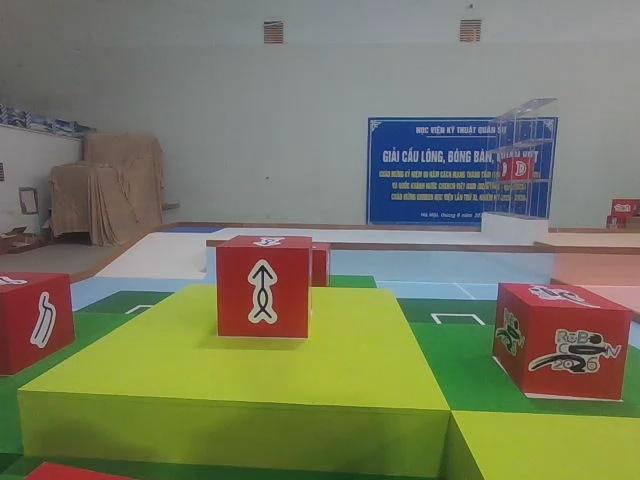R1: (488, 280, 638, 403)
R2 Real: (213, 233, 316, 342), (0, 267, 77, 380)
